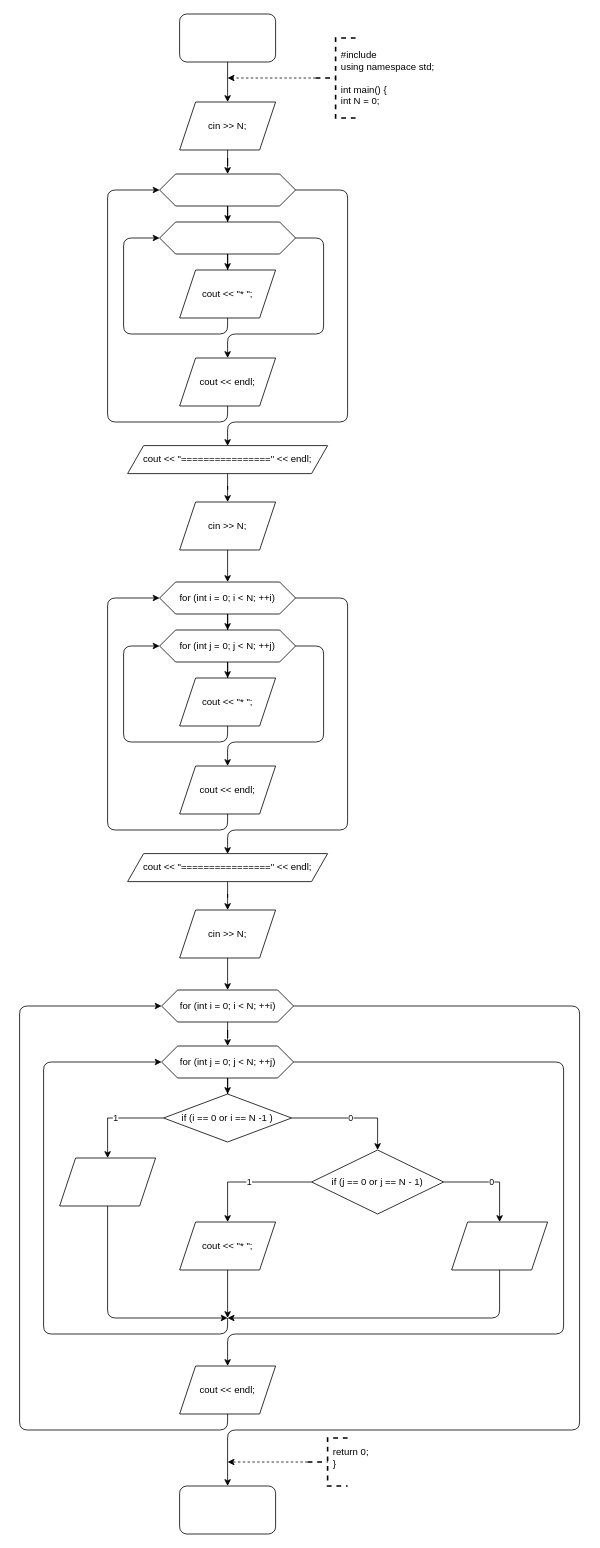
Some shapes in this 600 by 1548 pixel diagram are drawn without their labels. The centre of each missing label's shape, as x and y in pixels:
cout << " ";: the point at 499,1245
cout << " * ";: the point at 107,1181
for (int i = 0; i < sqrt(N); ++i): the point at 227,189
for (int j = 0; j < sqrt(N); ++j): the point at 227,237
Конец: the point at 227,1509
Начало: the point at 227,37
